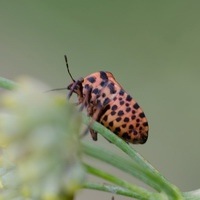insect: (67, 71, 148, 143)
